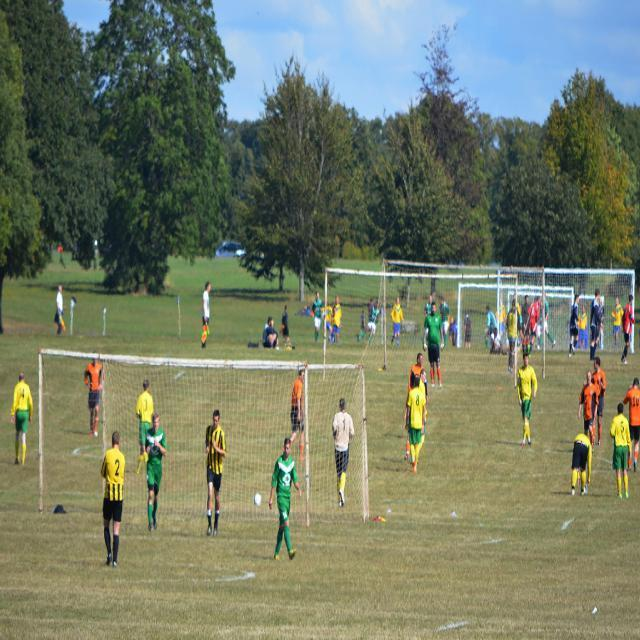football: (249, 487, 268, 515)
